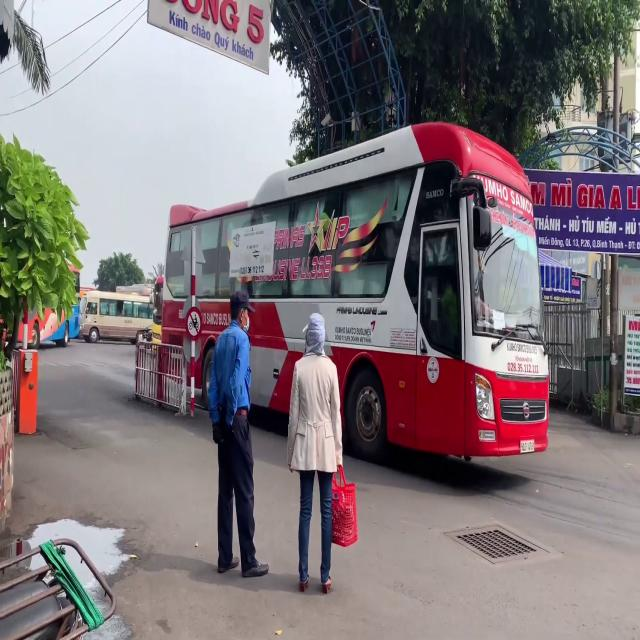bien_trang: (518, 439, 536, 456)
